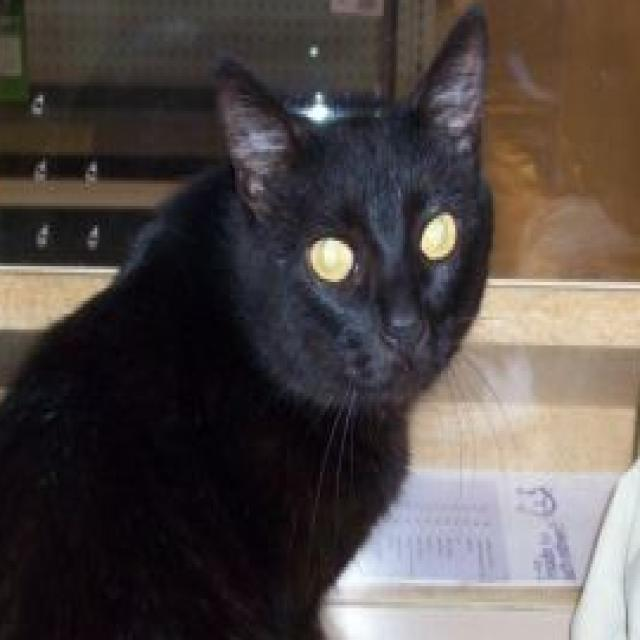Bombay: (0, 0, 495, 640)
